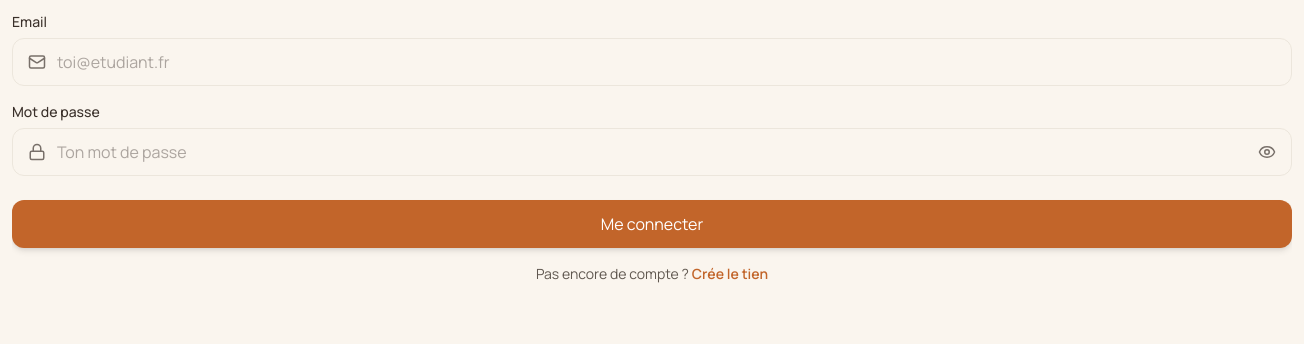
Test: LoginForm › shows validation errors for invalid values
The image size is (1304, 344).
What coordinates should you click on to do the following:
click the button "Me connecter"
I would click on:
 (652, 224)
Its box is [12,200,1292,248].
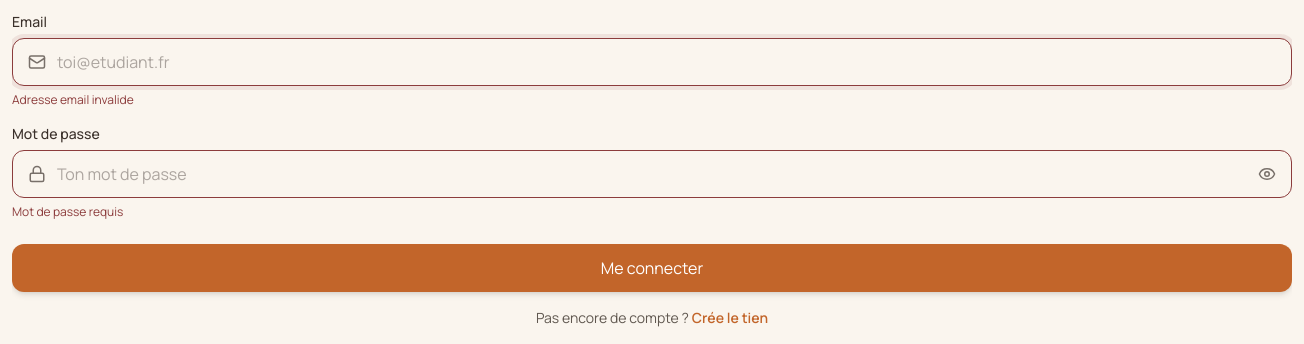
Result: the text "Adresse email invalide" is shown at [12,91,134,108]
Result: the text "Mot de passe requis" is shown at [12,203,123,220]
